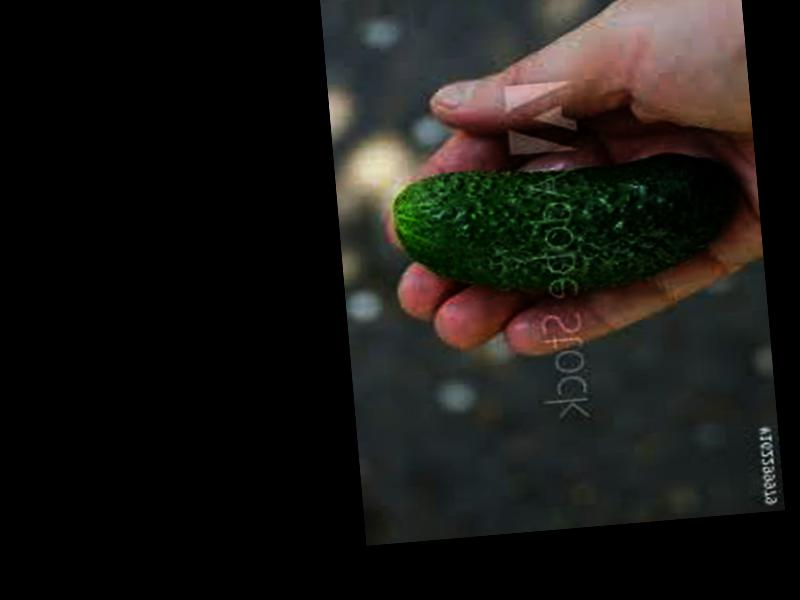Cucumber: (393, 149, 740, 307)
